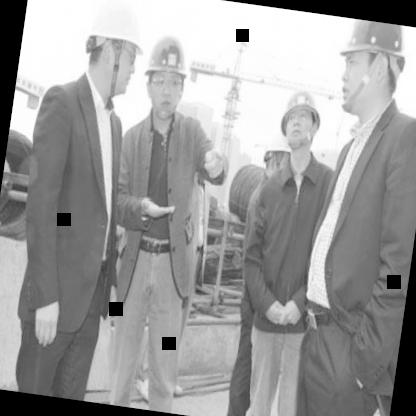helmet: (331, 17, 412, 124), (75, 0, 150, 102), (138, 32, 193, 120), (278, 85, 326, 151), (258, 132, 294, 183)
